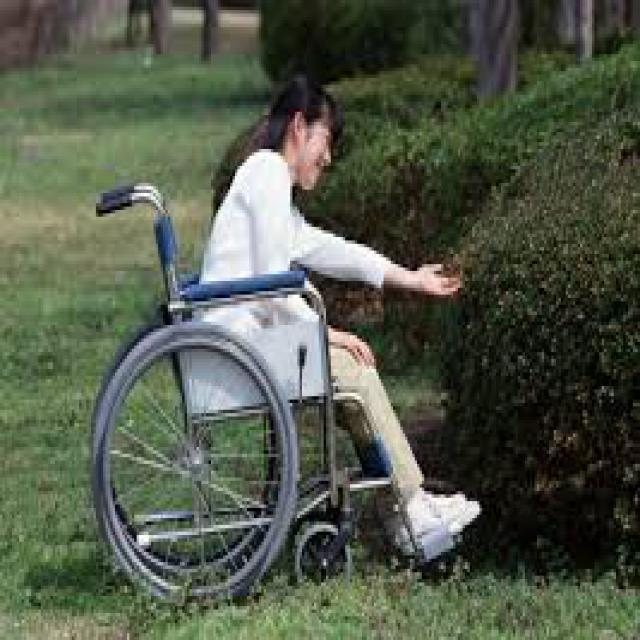wheelchairs: (83, 173, 460, 606)
